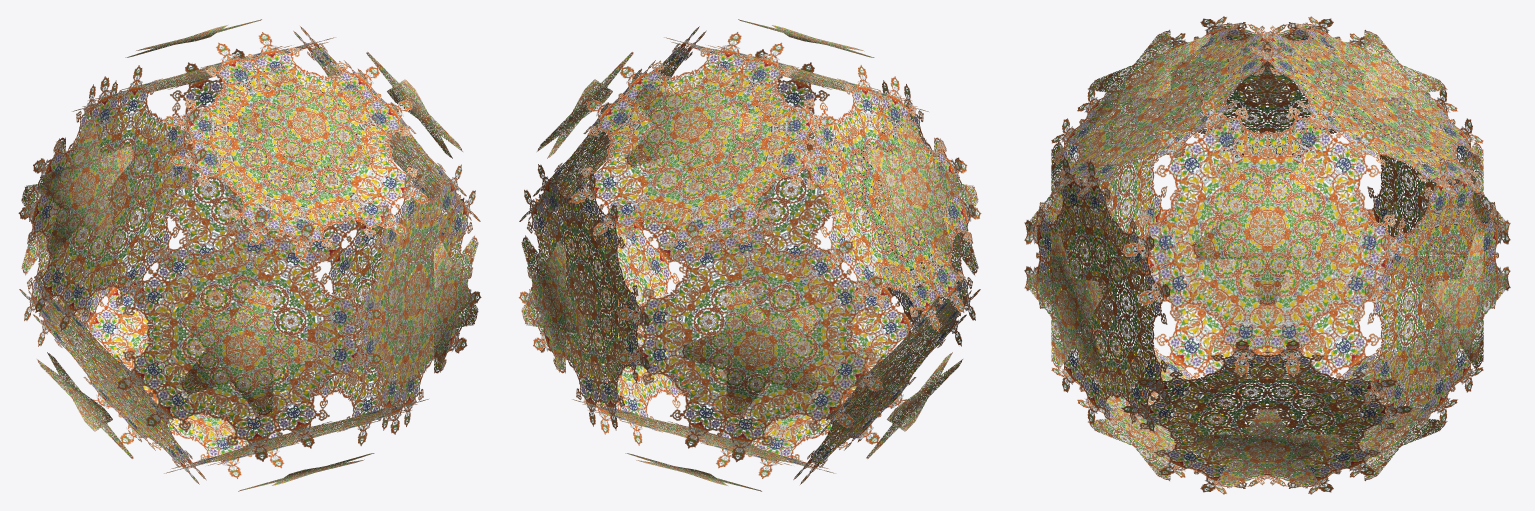
File: Icosidodecadodecahedron7.gltf
3 views of the same model, side by side, from view 1: azimuth 30°, elevation 25°; view 2: azimuth 150°, elevation 25°; view 3: azimuth 270°, elevation 25° (orthographic). The views are drawn at different scales.
Parts seen in each view (by area): view 1: Icosidodecadodecahedron7; view 2: Icosidodecadodecahedron7; view 3: Icosidodecadodecahedron7.
Boxes of the visible parts, x1=… form: Icosidodecadodecahedron7: x1=18, y1=19, x2=481, y2=491; Icosidodecadodecahedron7: x1=518, y1=19, x2=981, y2=491; Icosidodecadodecahedron7: x1=1024, y1=16, x2=1510, y2=494.
Size of the model in its own units: 2.62 by 2.62 by 2.62.
1 material, 1 textured.
